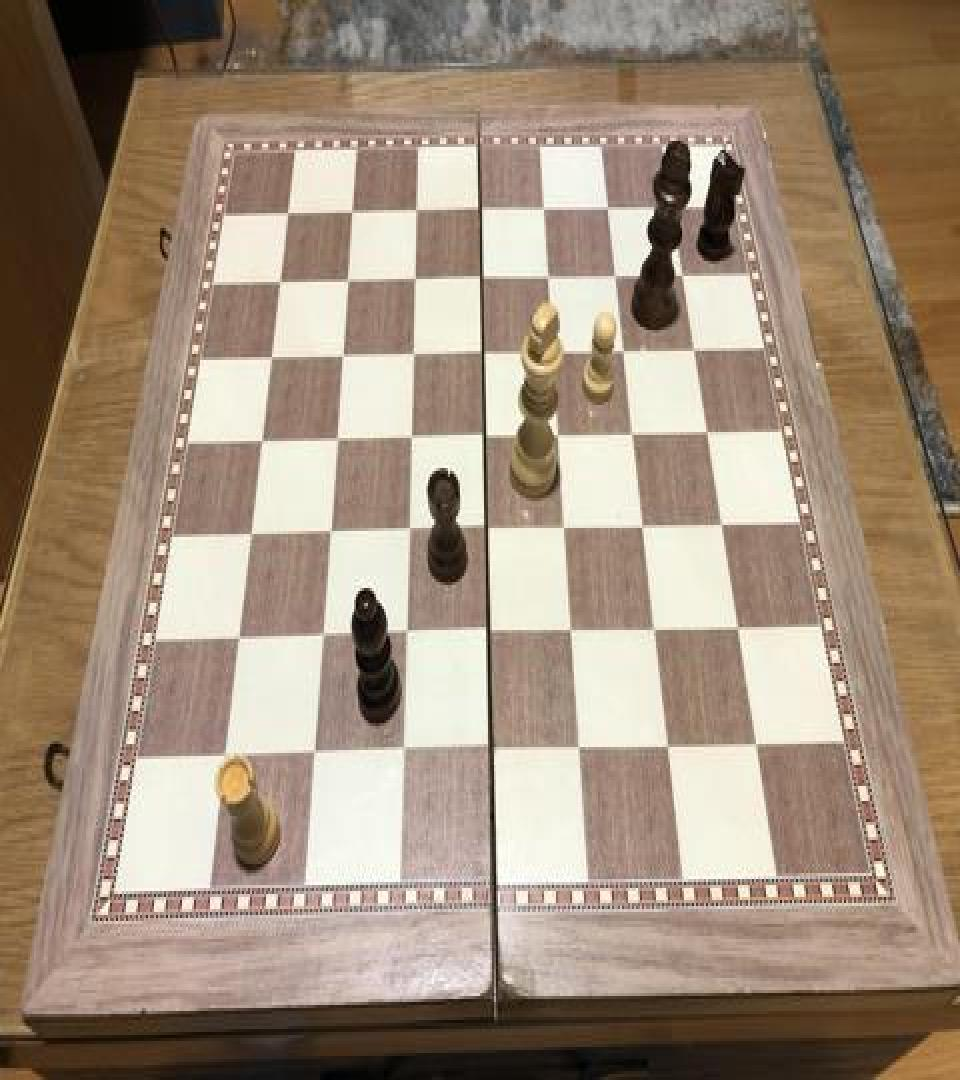xcorner: (475, 514, 499, 551), (559, 616, 583, 653), (743, 727, 767, 764), (477, 733, 501, 770), (212, 739, 236, 776), (664, 190, 688, 226), (600, 192, 624, 228), (535, 194, 559, 230), (471, 195, 495, 231), (407, 196, 431, 232), (342, 198, 366, 234), (278, 198, 302, 234), (674, 258, 698, 294), (539, 261, 563, 297), (472, 262, 496, 298), (404, 264, 428, 300), (337, 266, 361, 302), (269, 267, 293, 303), (685, 334, 709, 370), (614, 336, 638, 372), (544, 338, 568, 374), (473, 339, 497, 375), (402, 340, 426, 376), (331, 342, 355, 378), (697, 417, 721, 453), (623, 418, 647, 454), (548, 420, 572, 456), (474, 422, 498, 458), (399, 423, 423, 459), (325, 424, 349, 460), (250, 428, 274, 464), (711, 508, 735, 544), (632, 512, 656, 548), (553, 513, 577, 549), (396, 516, 420, 552), (317, 518, 341, 554), (239, 519, 263, 555), (726, 612, 750, 648), (643, 614, 667, 650), (476, 618, 500, 654), (393, 620, 417, 656), (309, 621, 333, 657), (226, 624, 250, 660), (654, 730, 678, 766), (566, 732, 590, 768), (389, 736, 413, 772), (300, 738, 324, 774), (607, 260, 631, 295), (260, 344, 284, 379)
